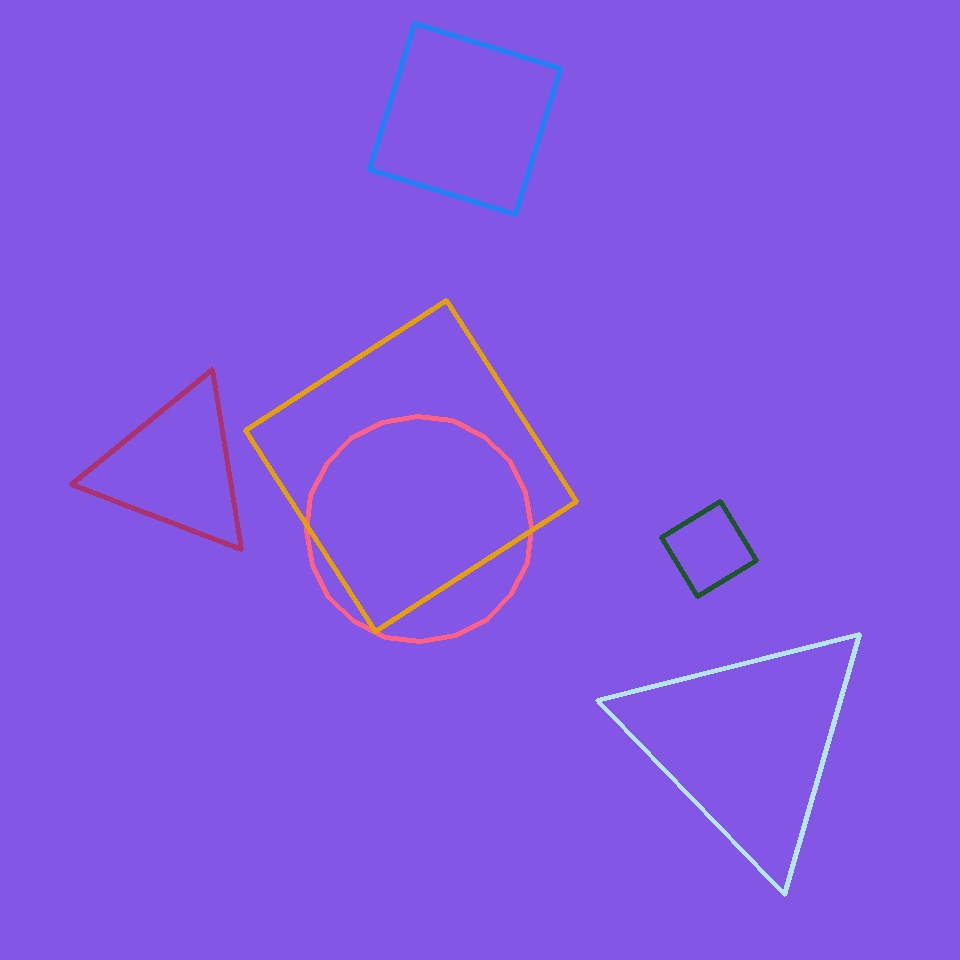circle: (616, 613, 878, 873), (90, 378, 260, 558)
square: (246, 300, 576, 632), (370, 24, 560, 214), (662, 502, 756, 596)
triangle: (306, 416, 532, 642)
